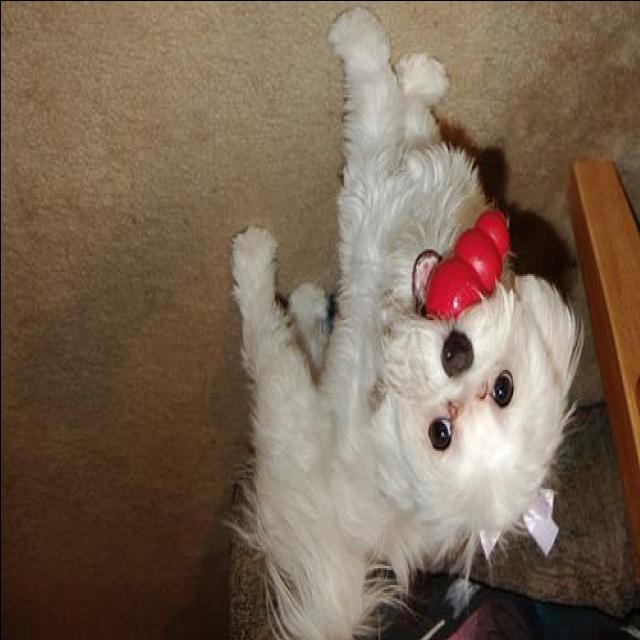maltese_dog: (230, 10, 575, 640)
